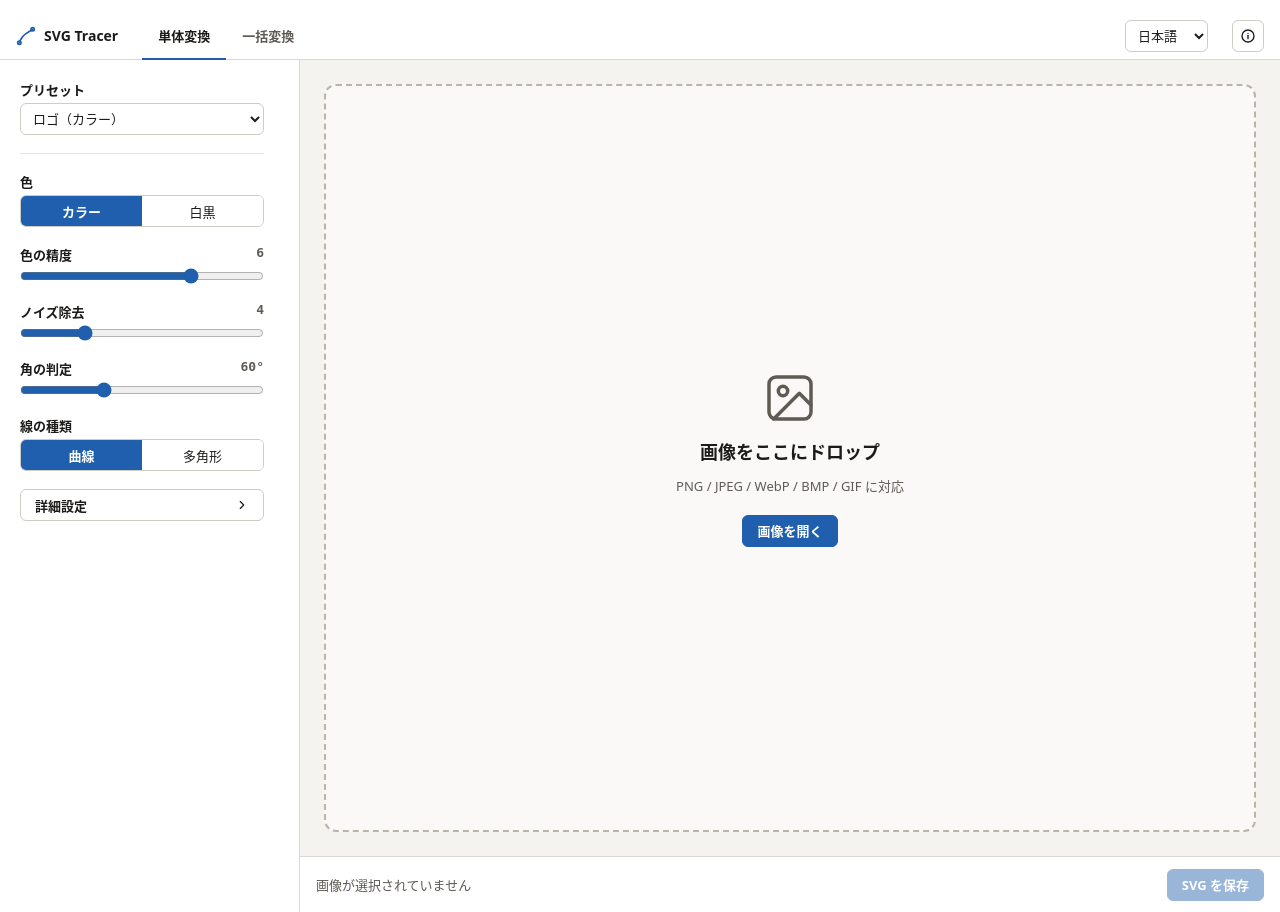
Test: App › T11: Settings restoration, Auto-save, and About dialog › restores batchInput and batchOutput in batch tab with items in wait status
The image size is (1280, 912).
Click the tab "一括変換" at point(268, 36), box [226,12,310,60]
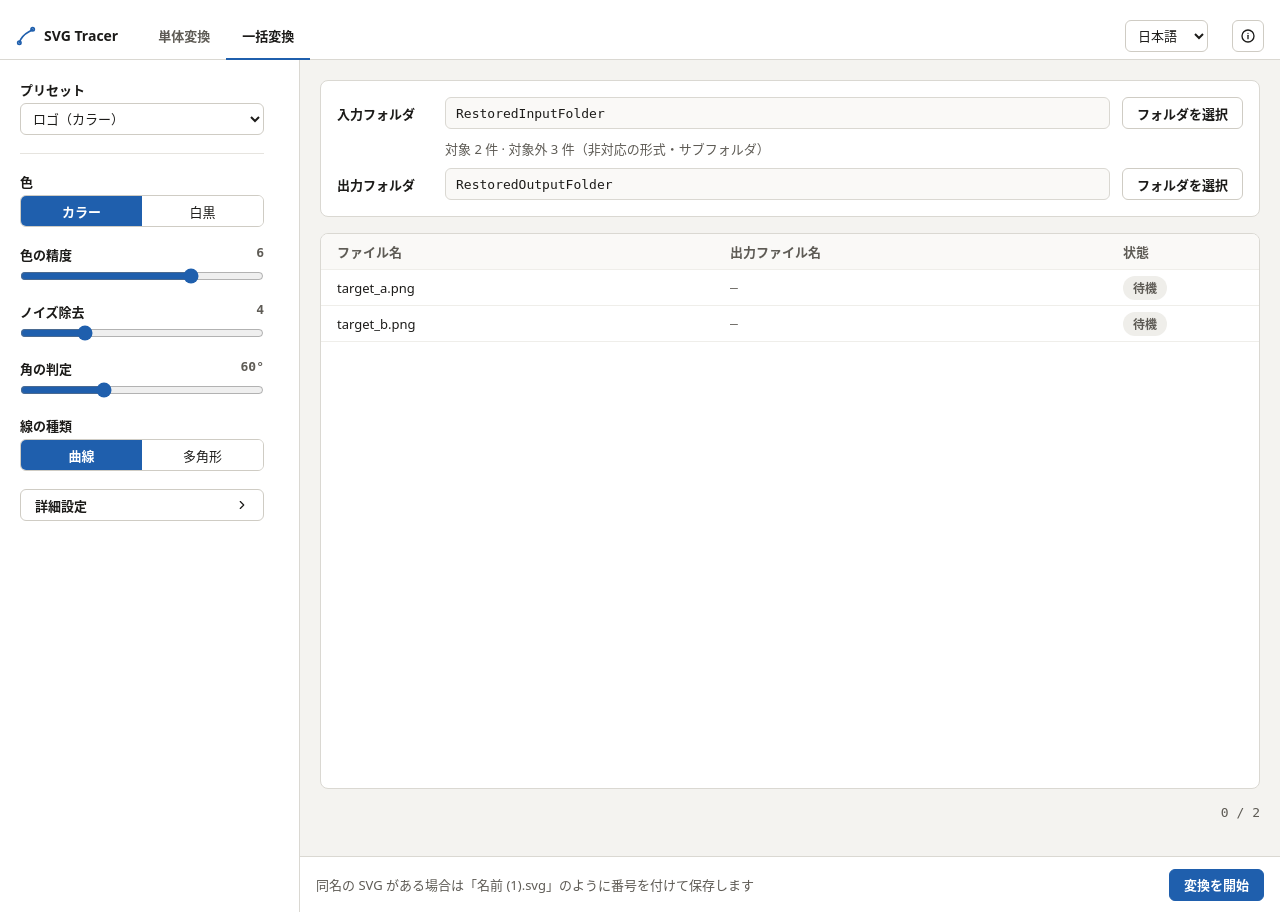
Result: the text "RestoredInputFolder" is shown at [445,97,1110,129]
Result: the text "RestoredOutputFolder" is shown at [445,168,1110,200]
Result: the text "対象 2 件 · 対象外 3 件（非対応の形式・サブフォルダ）" is shown at [445,140,770,158]
